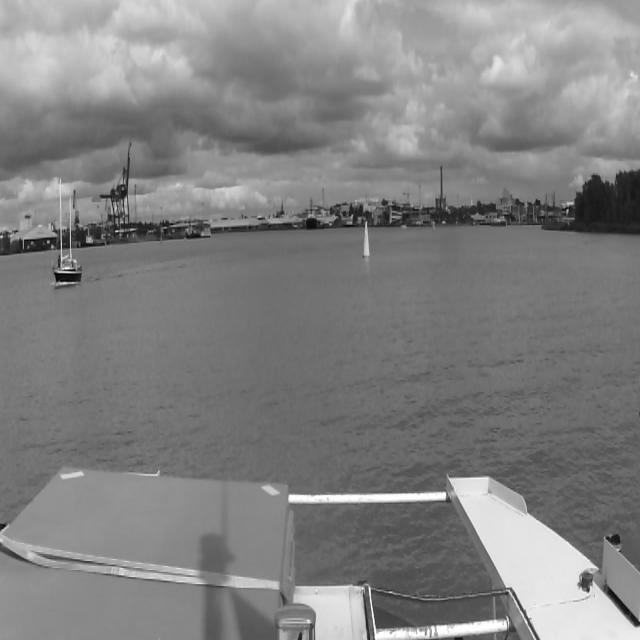buoy: (360, 218, 372, 268), (432, 217, 436, 237)
ship: (49, 176, 83, 296), (304, 195, 318, 233), (488, 212, 507, 226)
